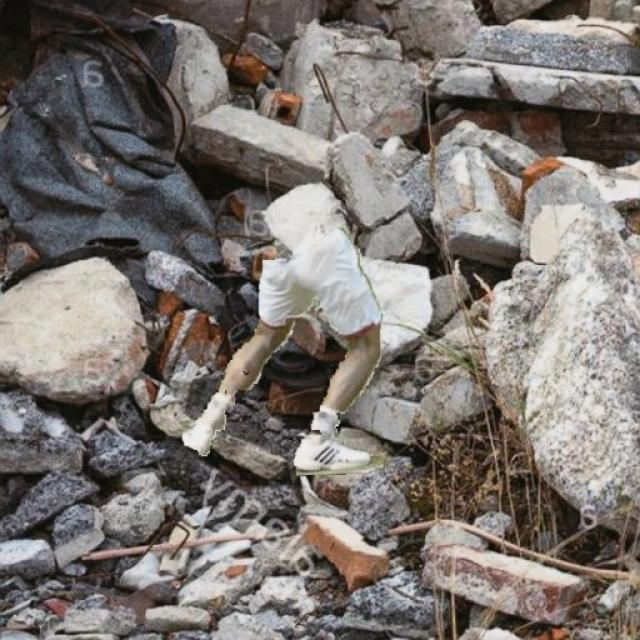Person in Rubble: (182, 226, 382, 475)
